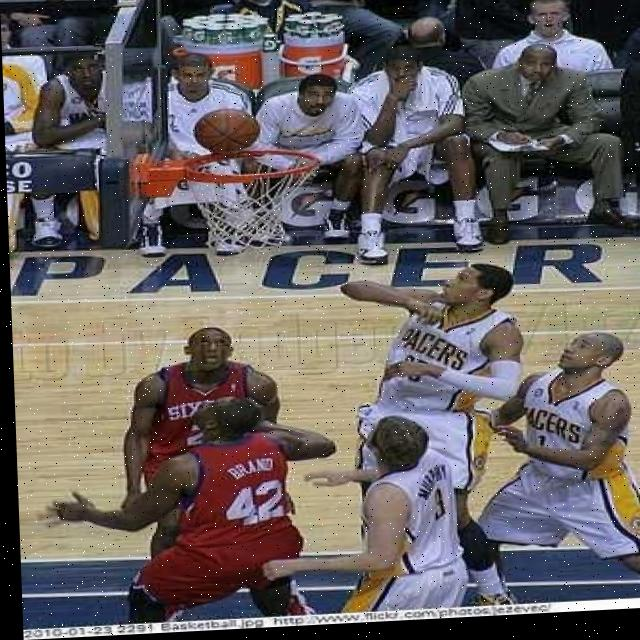basketball: (193, 105, 266, 156)
hoop: (182, 147, 326, 258)
